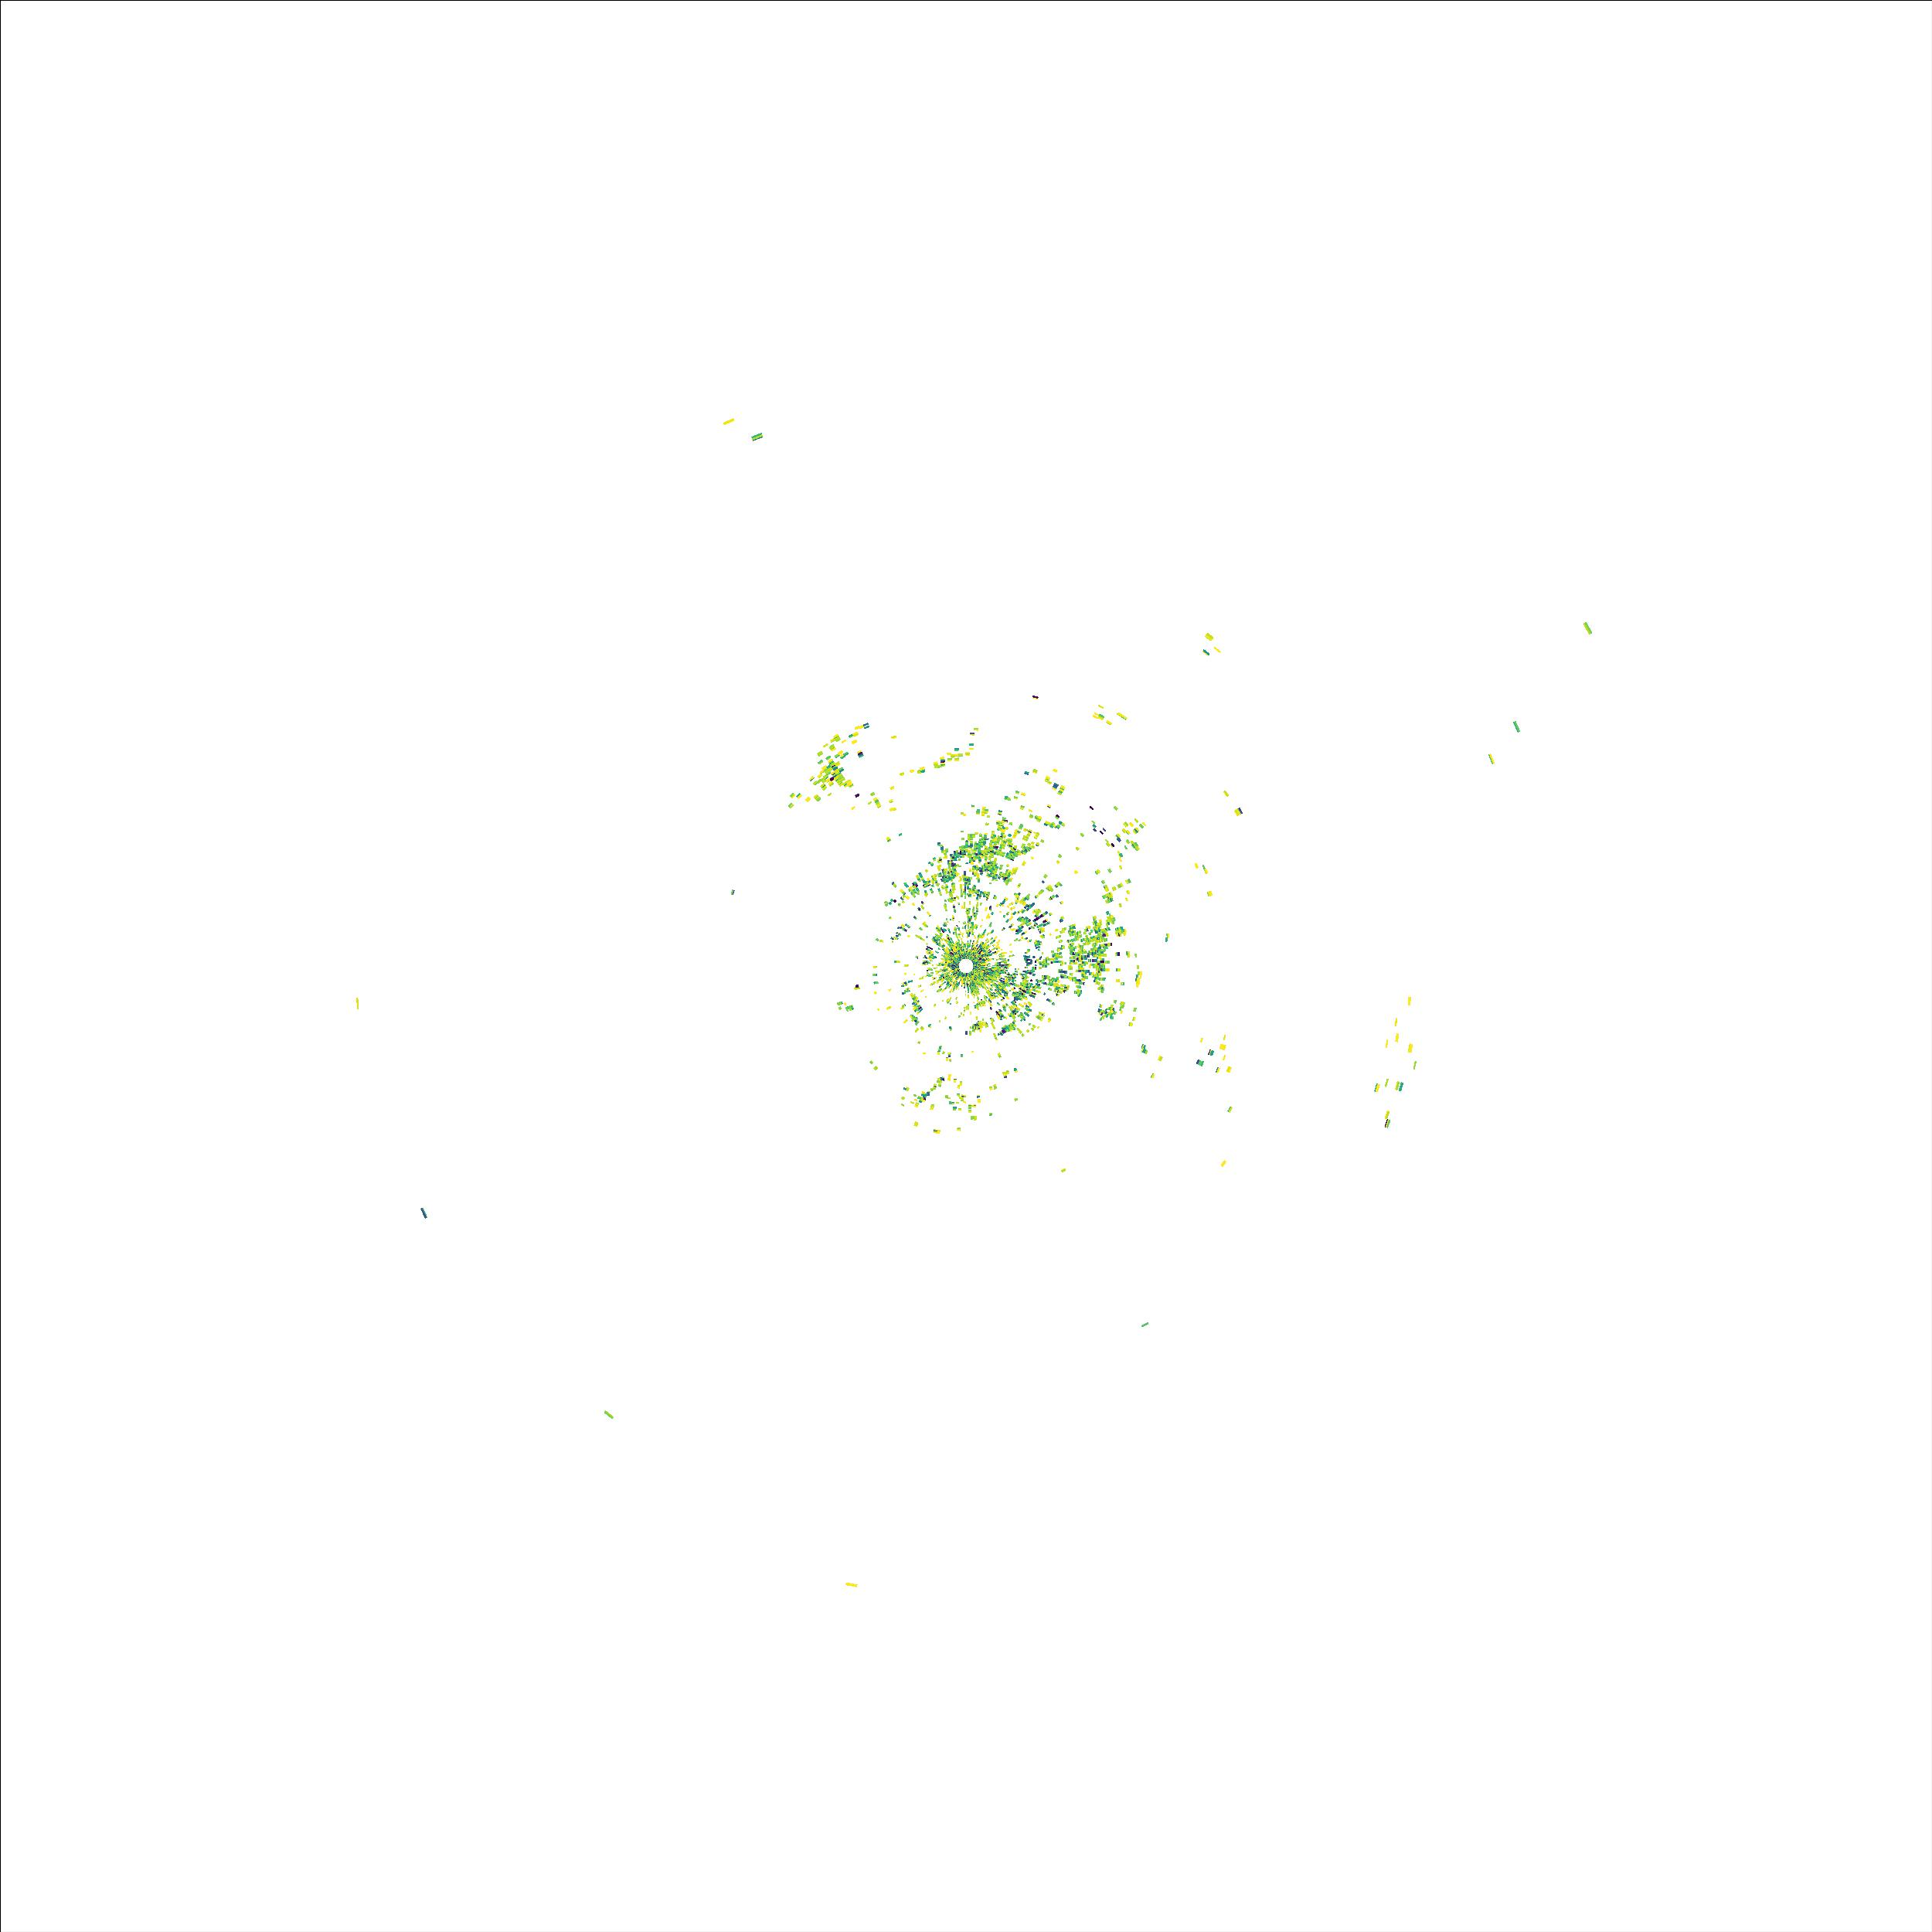fall: (833, 998, 856, 1016)
